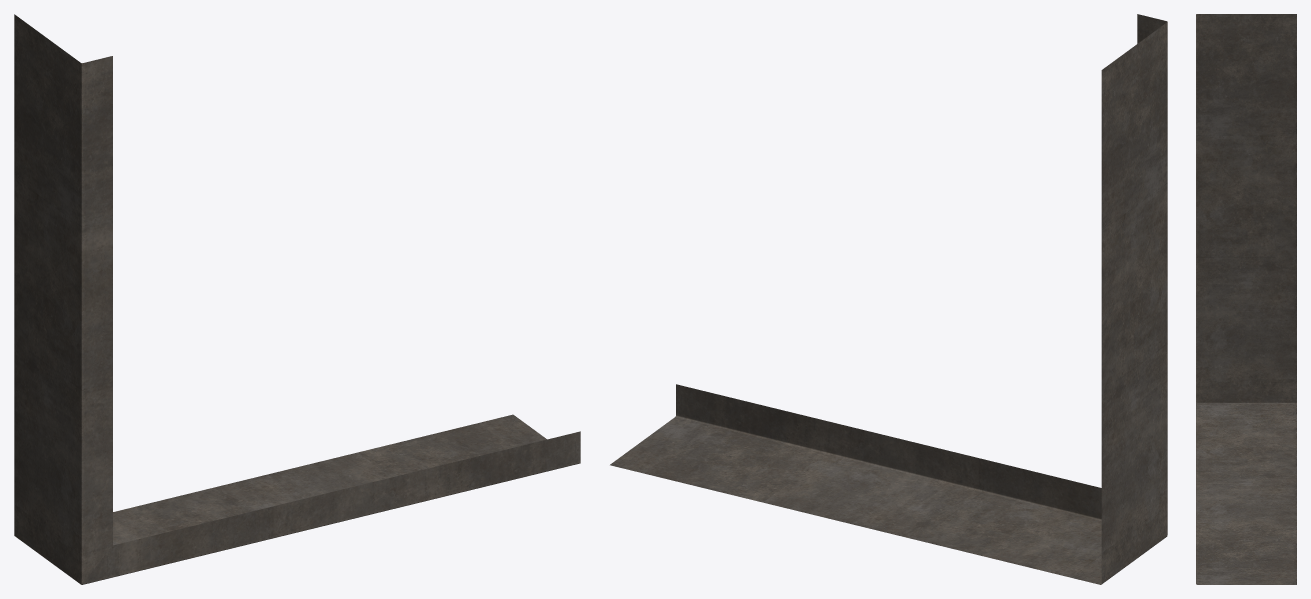
Rendered from base_standard_corner_large_01.gltf.
3 views of the same model, side by side, from view 1: azimuth 30°, elevation 25°; view 2: azimuth 150°, elevation 25°; view 3: azimuth 270°, elevation 25° (orthographic). The views are drawn at different scales.
Visible parts, largest first — view 1: base_standard_corner_large_01; view 2: base_standard_corner_large_01; view 3: base_standard_corner_large_01.
Part boxes in pixels (x1=…): base_standard_corner_large_01: x1=14, y1=14, x2=580, y2=584; base_standard_corner_large_01: x1=610, y1=14, x2=1167, y2=584; base_standard_corner_large_01: x1=1196, y1=14, x2=1296, y2=584.
Bounding box in the file's own units: 3.2 × 3.2 × 0.75.
1 material, 1 textured.
